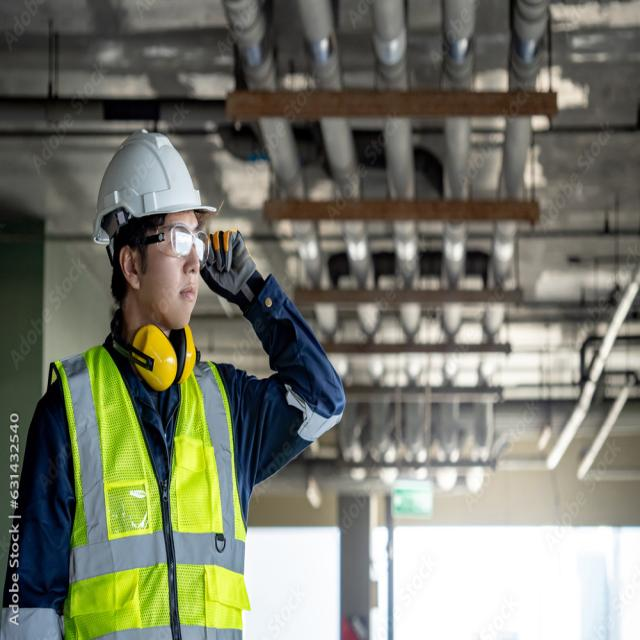Ear Muffs: (108, 318, 206, 394)
Gloves: (202, 220, 270, 314)
Hard Hat: (86, 129, 224, 258)
Reflective Vest: (59, 336, 258, 636)
Safety Glasses: (130, 220, 203, 263)
